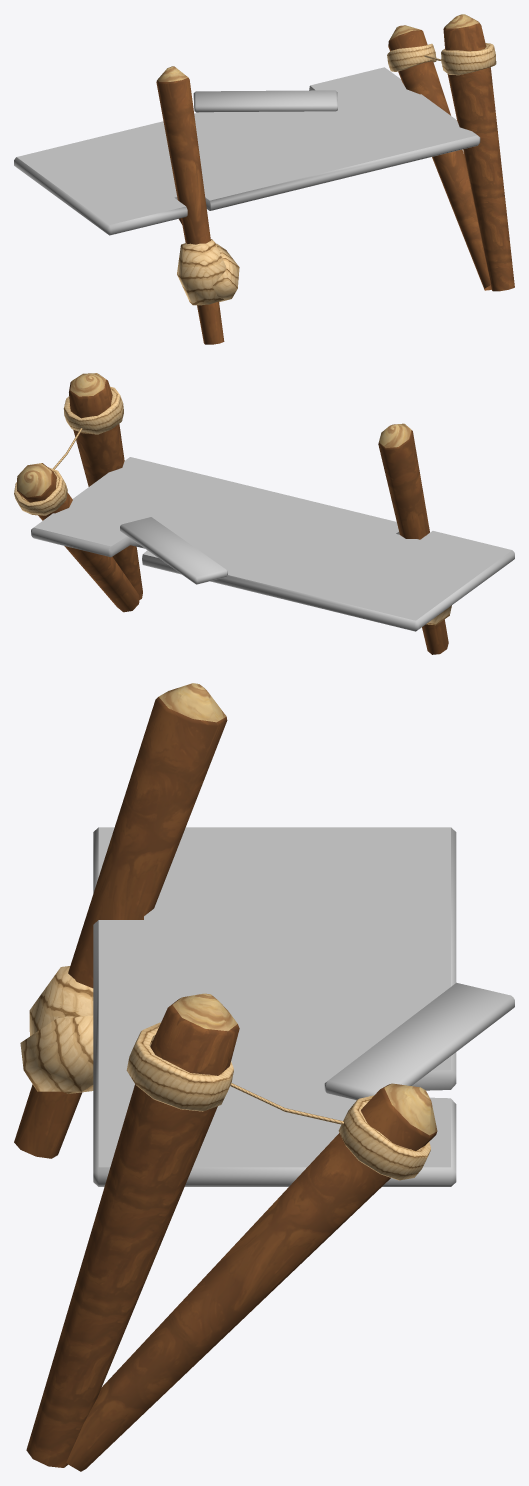
Rendered from Platform4.fbx.
The picture shows the model from 3 angles, top to bottom: view 1: azimuth 30°, elevation 25°; view 2: azimuth 150°, elevation 25°; view 3: azimuth 270°, elevation 25°; orthographic projection. The views are drawn at different scales.
Visible parts, largest first — view 1: PlatformLarge; view 2: PlatformLarge; view 3: PlatformLarge.
Boxes of the visible parts, x1=… form: PlatformLarge: x1=14, y1=14, x2=514, y2=344; PlatformLarge: x1=14, y1=373, x2=514, y2=654; PlatformLarge: x1=14, y1=683, x2=514, y2=1471.
Size of the model in its own units: 56.04 by 35.69 by 31.42.
